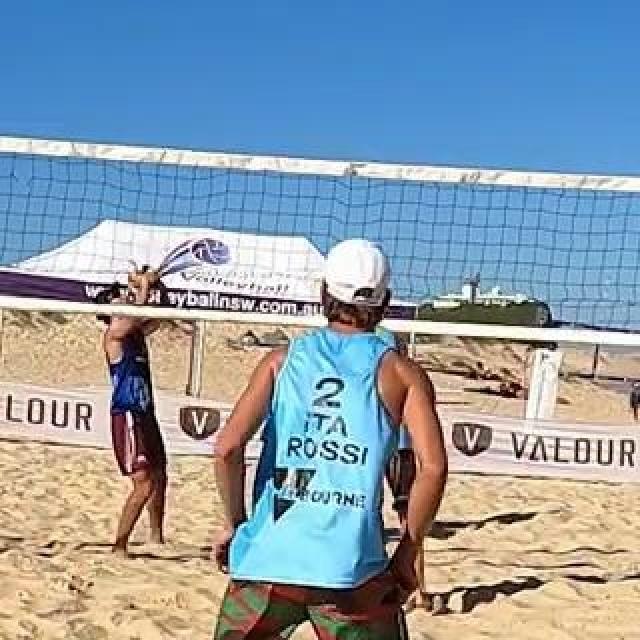volleyball: (127, 262, 161, 296)
